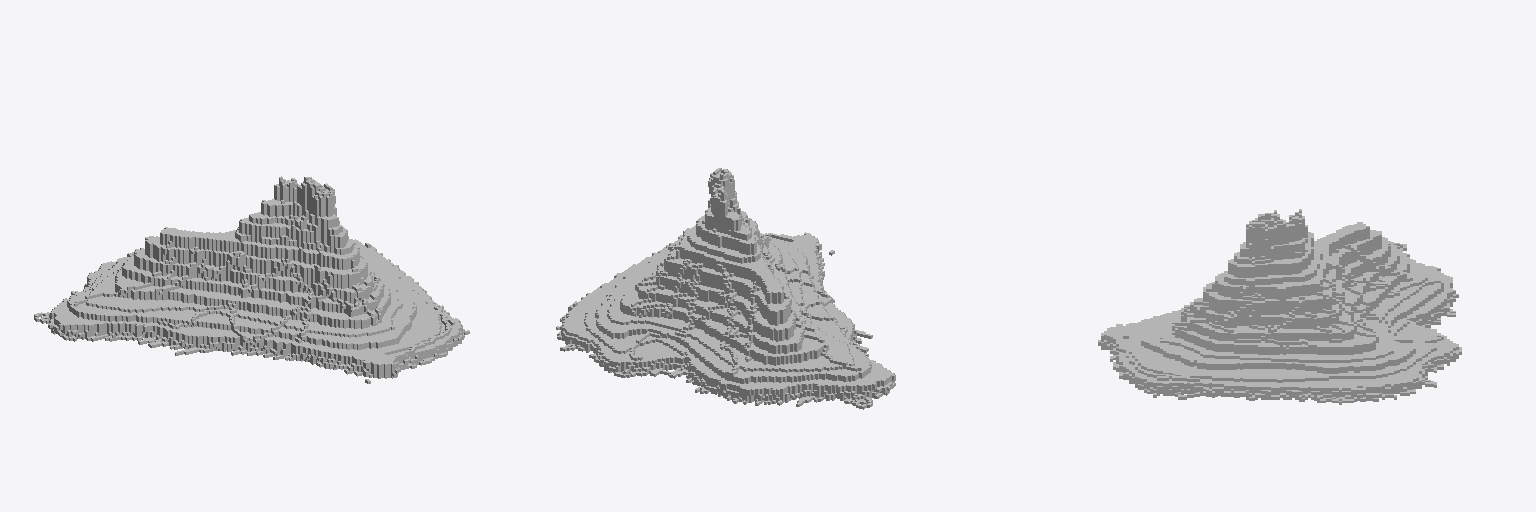
Rendered from Mountain.obj.
3 renders of one model, left to right at view 1: azimuth 30°, elevation 25°; view 2: azimuth 150°, elevation 25°; view 3: azimuth 270°, elevation 25°, orthographic.
Parts seen in each view (by area): view 1: object 1; view 2: object 1; view 3: object 1.
Boxes of the visible parts, box(x1,y1,x2,y2) form: object 1: box(34, 176, 469, 383); object 1: box(556, 168, 895, 409); object 1: box(1098, 209, 1461, 404).
Bounding box in the file's own units: 12.3 × 4.9 × 11.8.